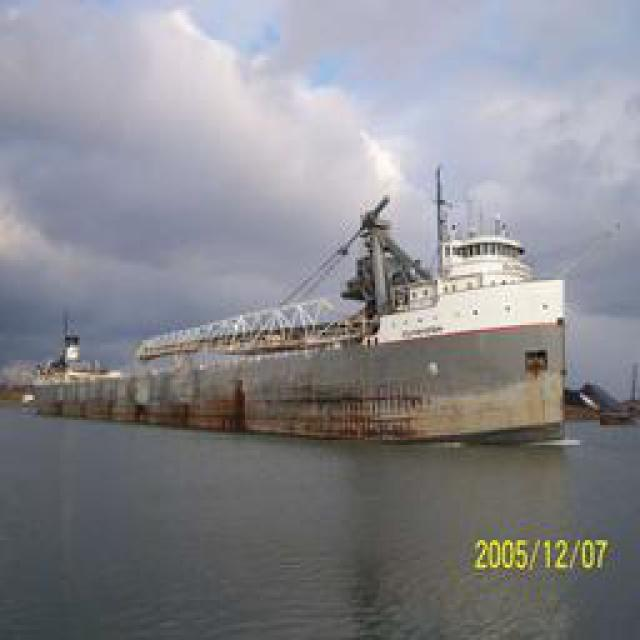Ship: (94, 184, 569, 439)
